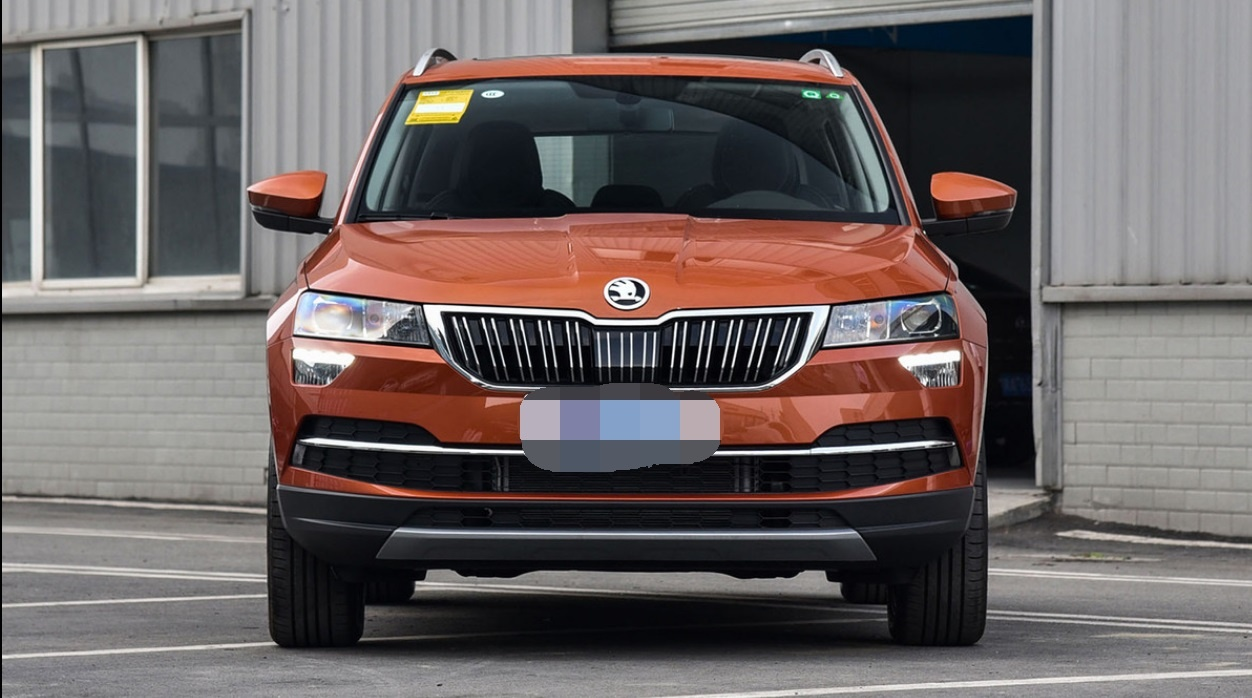SUV: (231, 33, 1028, 640)
